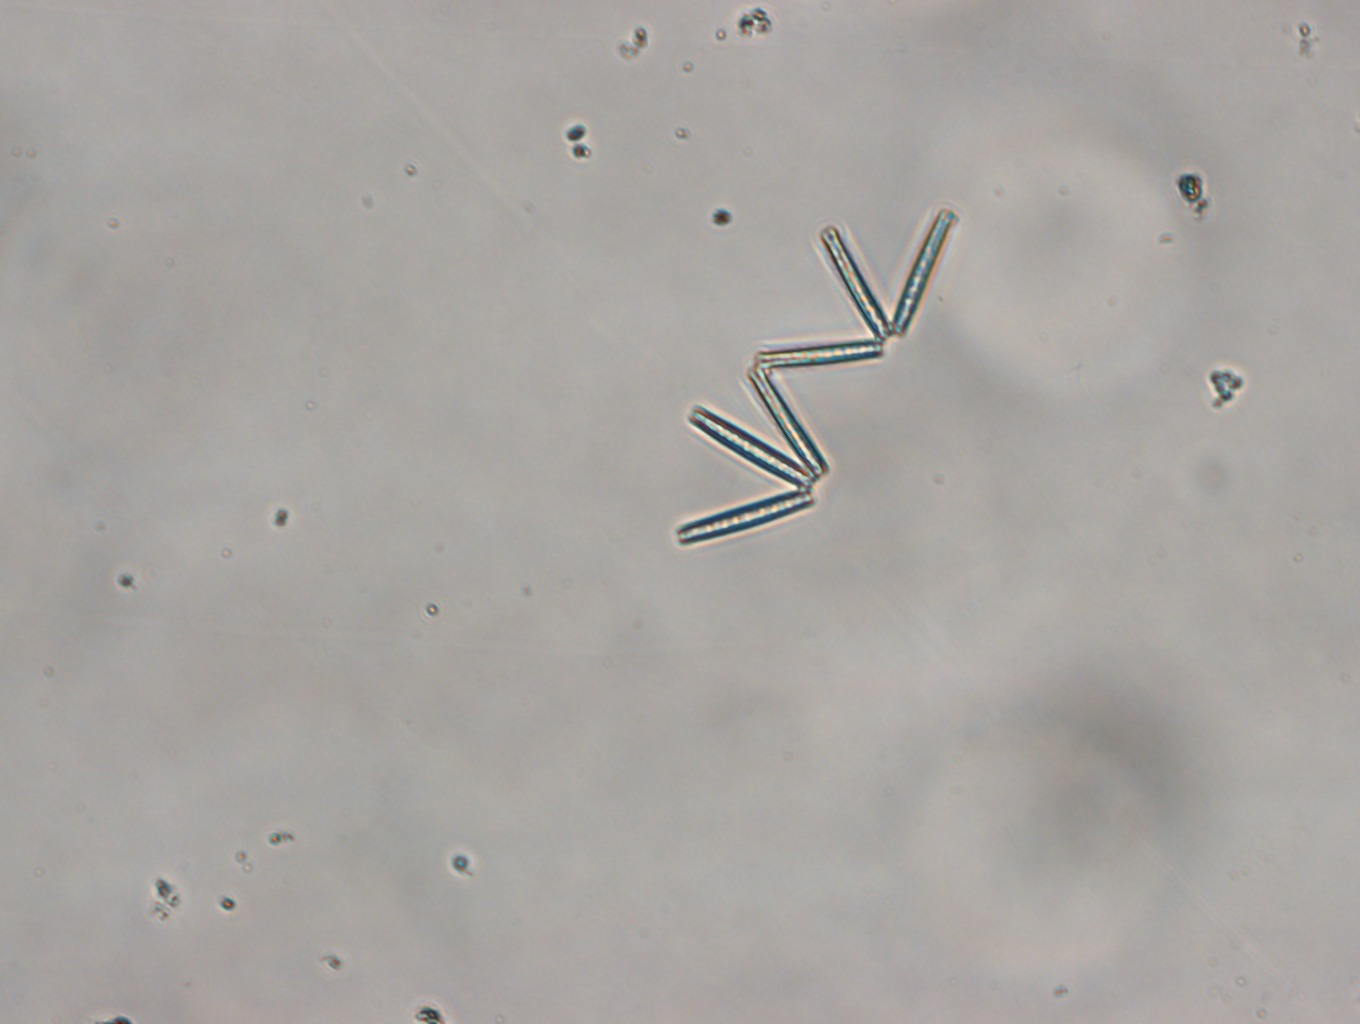thalassionema nitzschioides: (674, 203, 958, 550)
